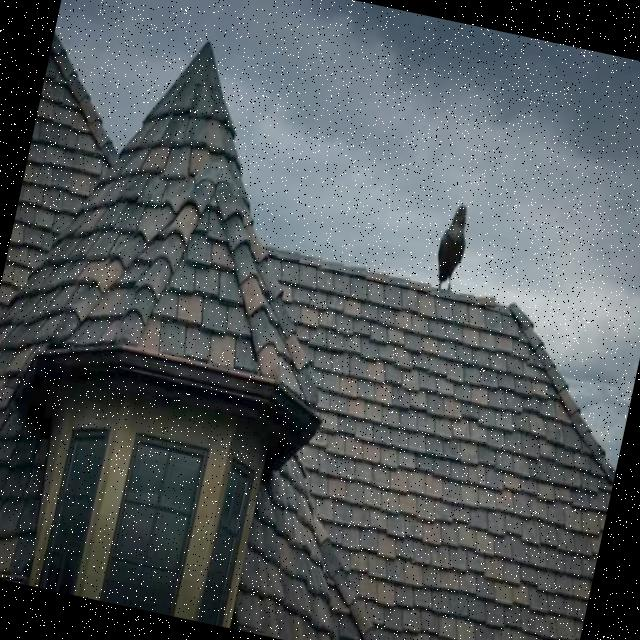bird: (428, 200, 474, 295)
